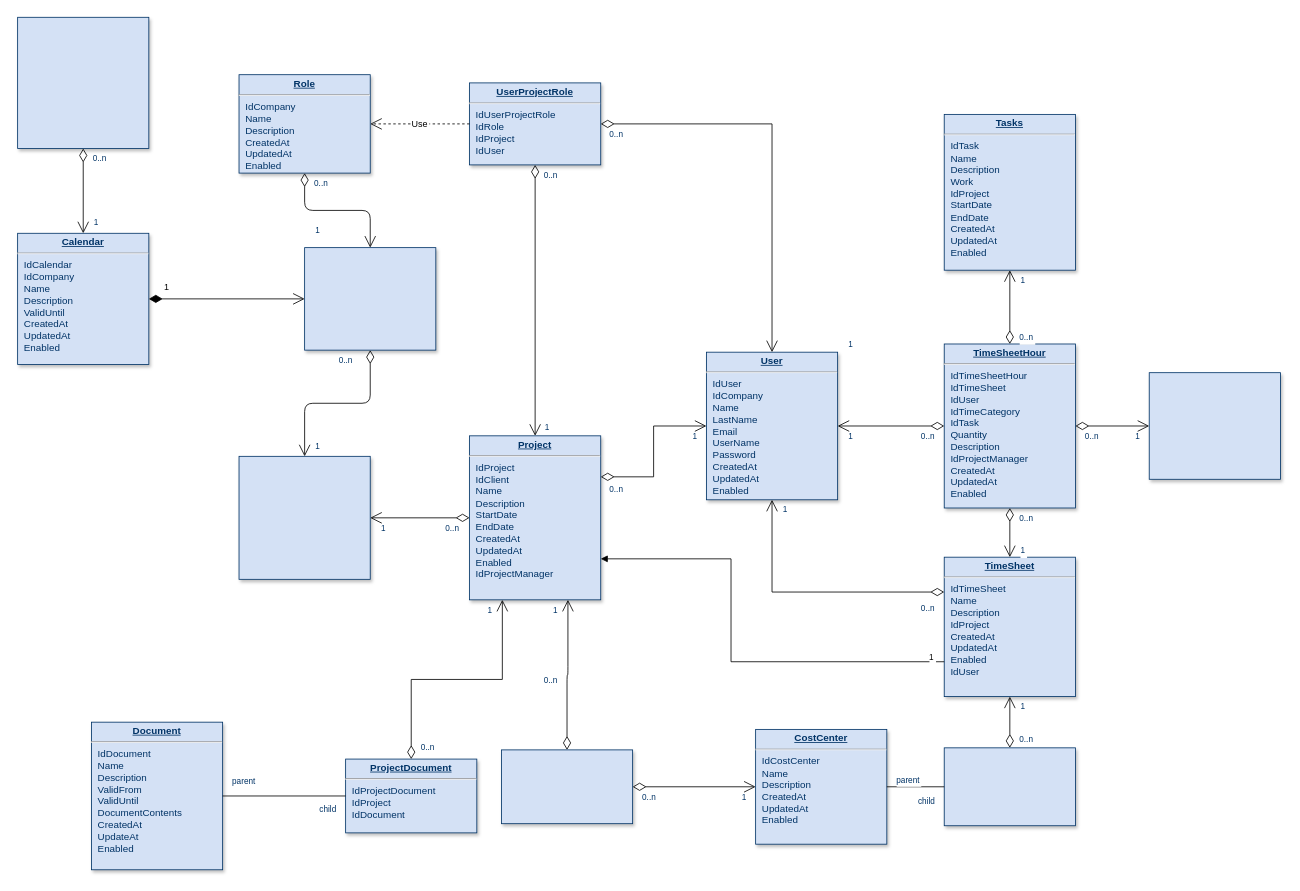
This 1300x891 diagram has some shape labels left out. Here are the shapes that lost their labels. From the top down, the centre of each, then its label:
the point at 84,83: User IdHoliday IdCalendar Name Description Date CreatedAt UpdatedAt Enabled
the point at 371,300: Company Name Description CreatedAt UpdatedAt Enabled
the point at 1215,427: TimeCategory IdTimeCategory Name Description CreatedAt UpdatedAt Enabled
the point at 305,518: Client IdClient IdCompany Name Description CreatedAt UpdatedAt Enabled
the point at 567,787: ProjectCostCenter IdProjectCostCenter IdProject IdCostCenter
the point at 1010,787: TimeSheetCostCenter IdTimeSheetCostCenter IdTimeSheet IdCostCenter
